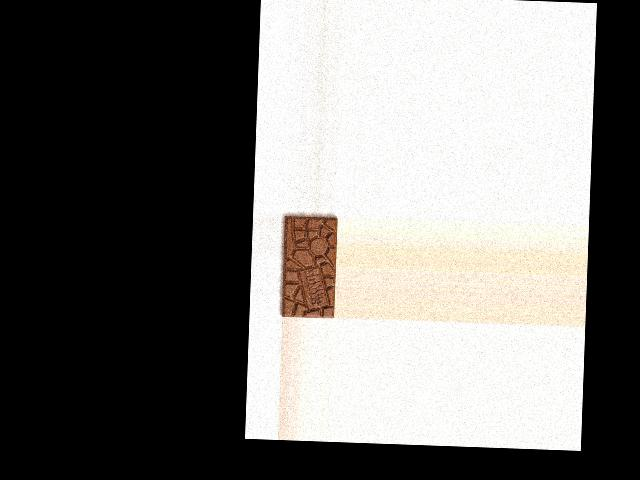chocolate: (278, 214, 337, 319)
